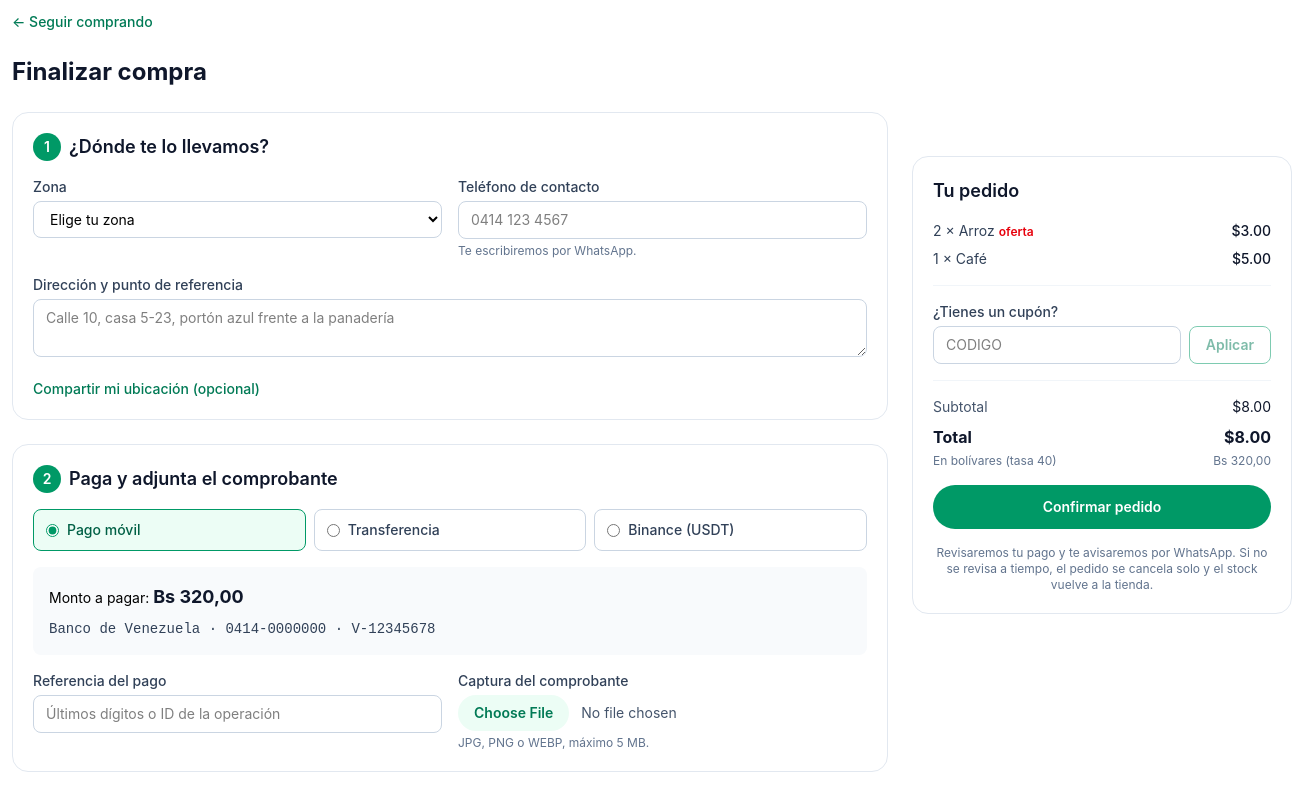
Test case: Checkout: resumen y cupón › quitar el cupón vuelve a cotizar sin él
expect the text "2 × Arroz" is shown: met, box [933,221,1034,241]
In the field labelled "¿Tienes un cupón?": (1057,345) [933,326,1181,364], type "VERANO10"
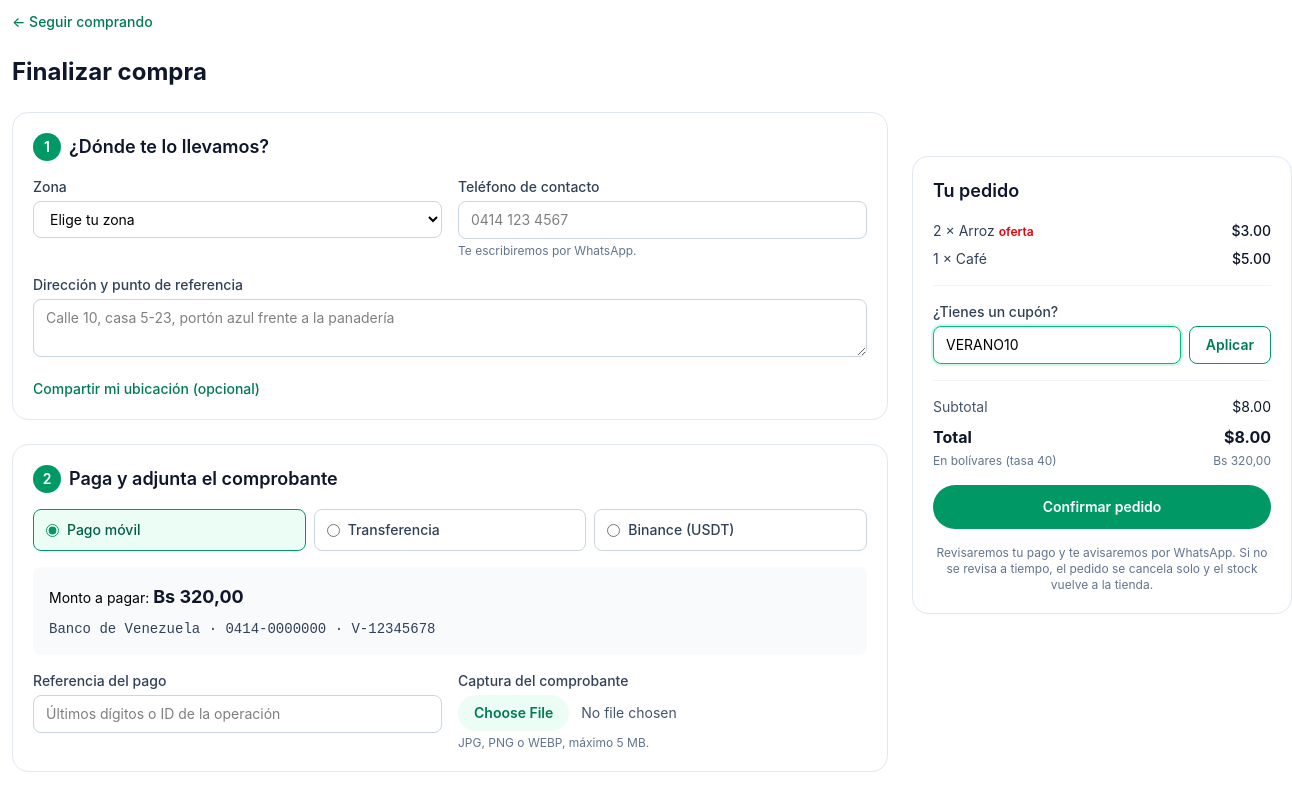
Click the button "Aplicar": (1230,345) [1189,326,1271,364]
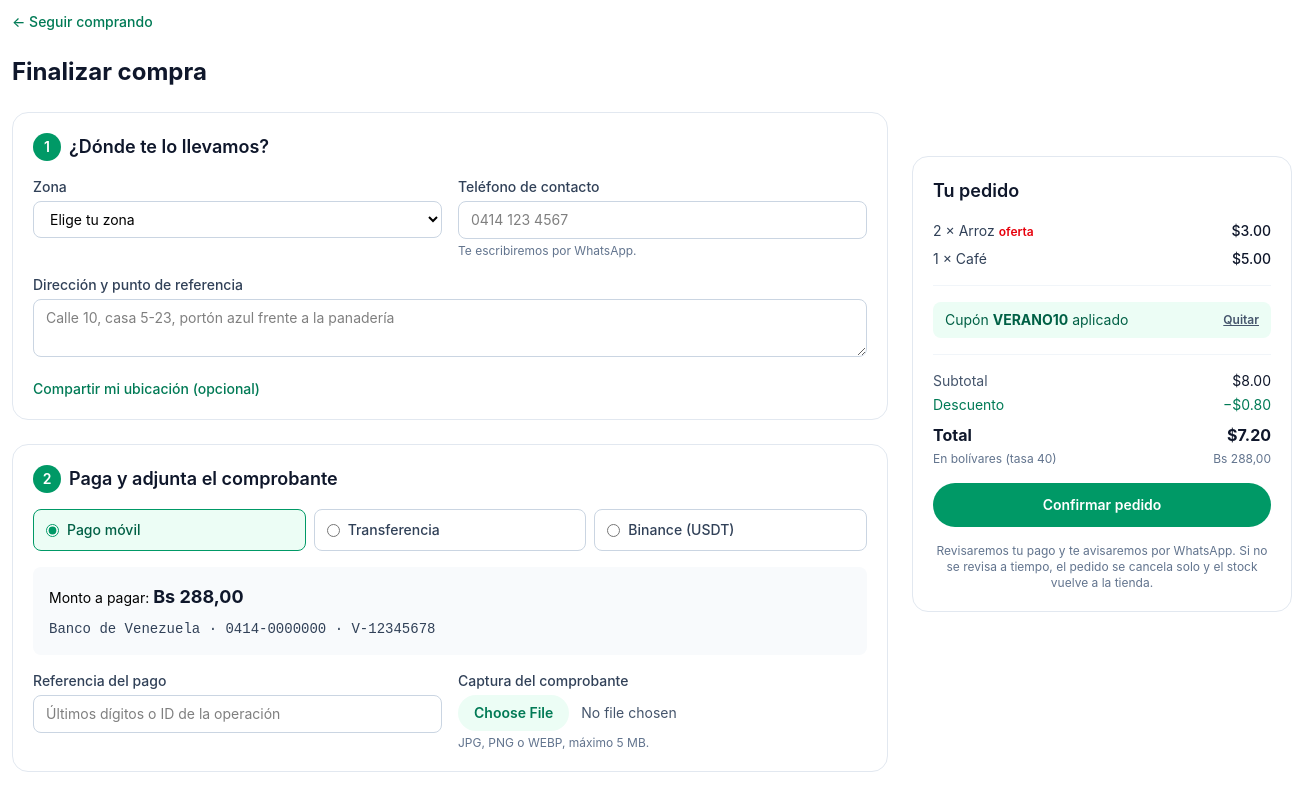
expect the text "−$0.80" is shown: met, box [1223,395,1271,415]
Click the button "Quitar": (1241,320) [1223,312,1259,328]
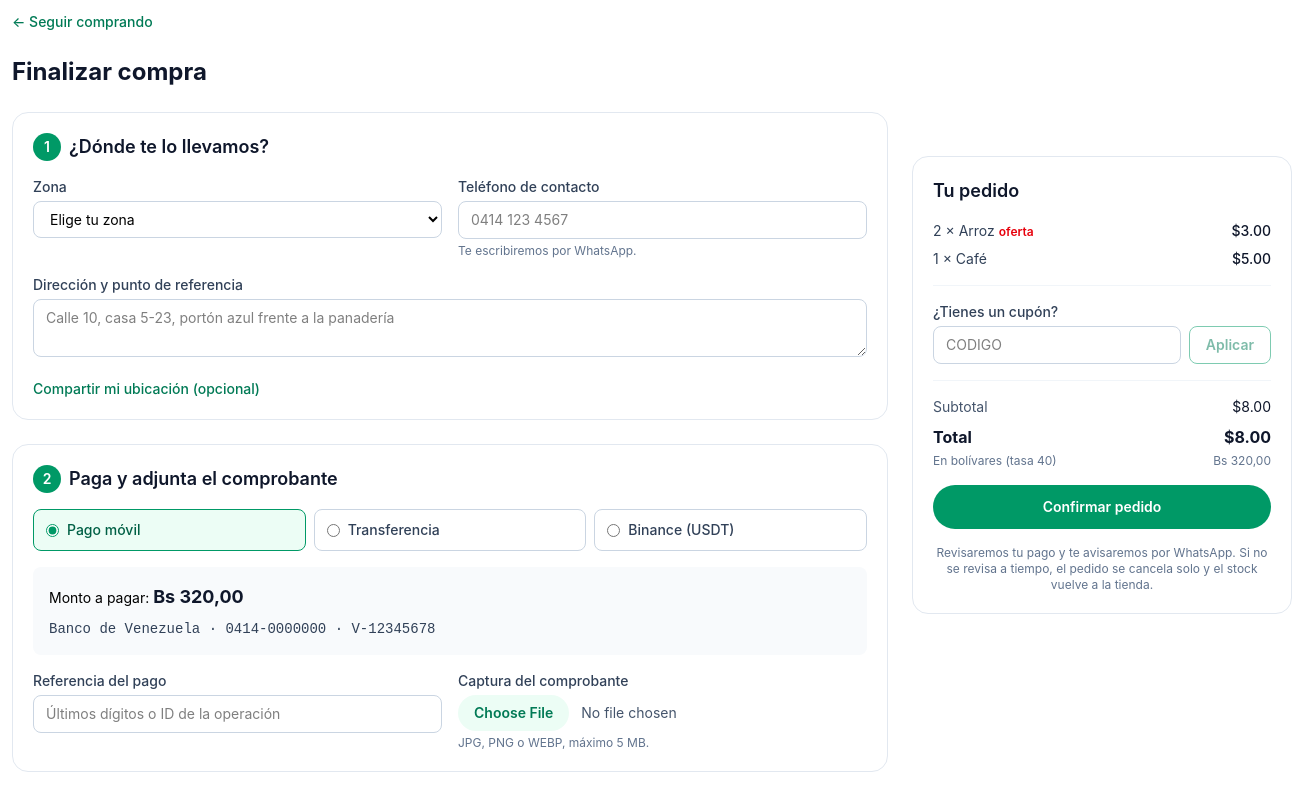
expect the text "−$0.80" is gone: met
expect the field labelled "¿Tienes un cupón?" is empty: met, box [933,326,1181,364]
